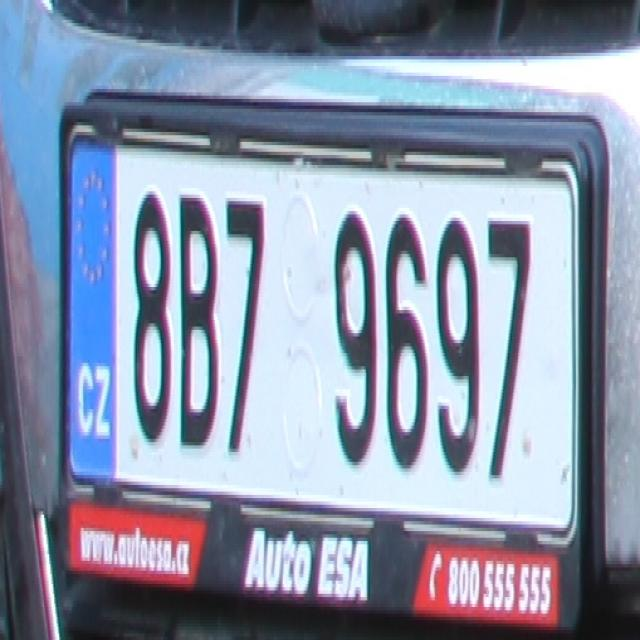6: (383, 208, 429, 472)
7: (484, 208, 533, 482), (225, 188, 264, 459)
8: (130, 192, 170, 436)
9: (331, 204, 378, 472), (436, 208, 479, 472)
B: (175, 188, 219, 449)
